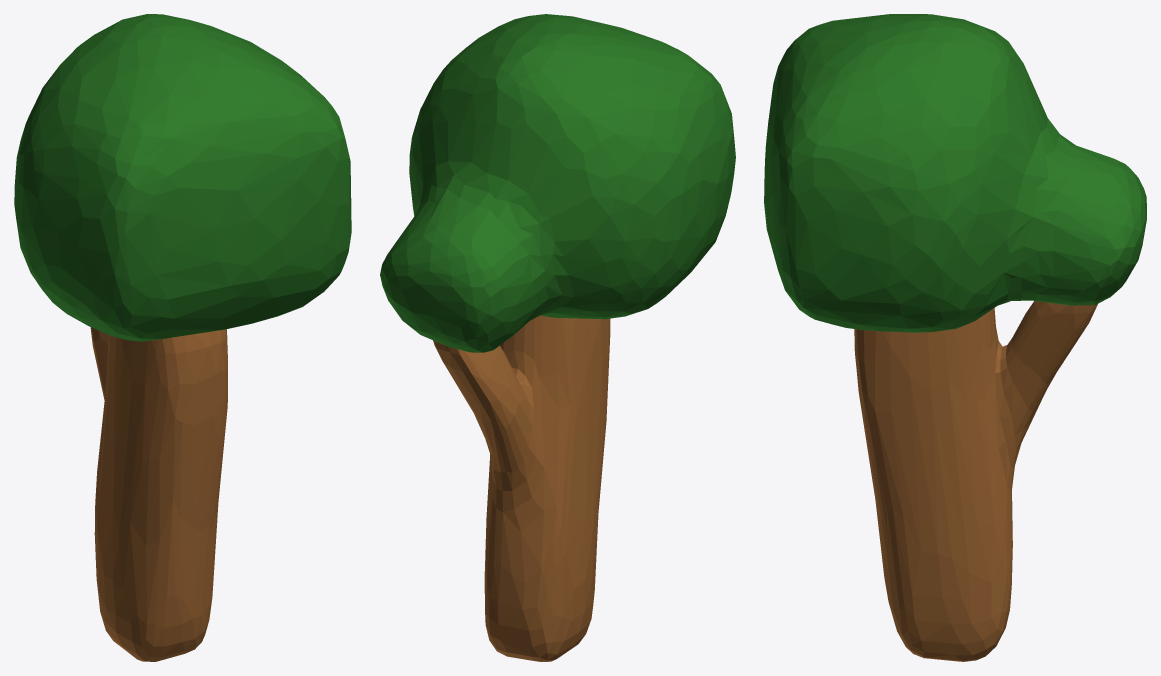
File: TreeBasicOnePiece.fbx
3 views of the same model, side by side, from view 1: azimuth 30°, elevation 25°; view 2: azimuth 150°, elevation 25°; view 3: azimuth 270°, elevation 25° (orthographic). The views are drawn at different scales.
Parts seen in each view (by area): view 1: Cube.004; view 2: Cube.004; view 3: Cube.004.
Part boxes in pixels (bbox=[...]): Cube.004: bbox=[14, 14, 351, 661]; Cube.004: bbox=[380, 14, 735, 661]; Cube.004: bbox=[764, 14, 1146, 661].
Size of the model in its own units: 714 by 1287 by 603.
